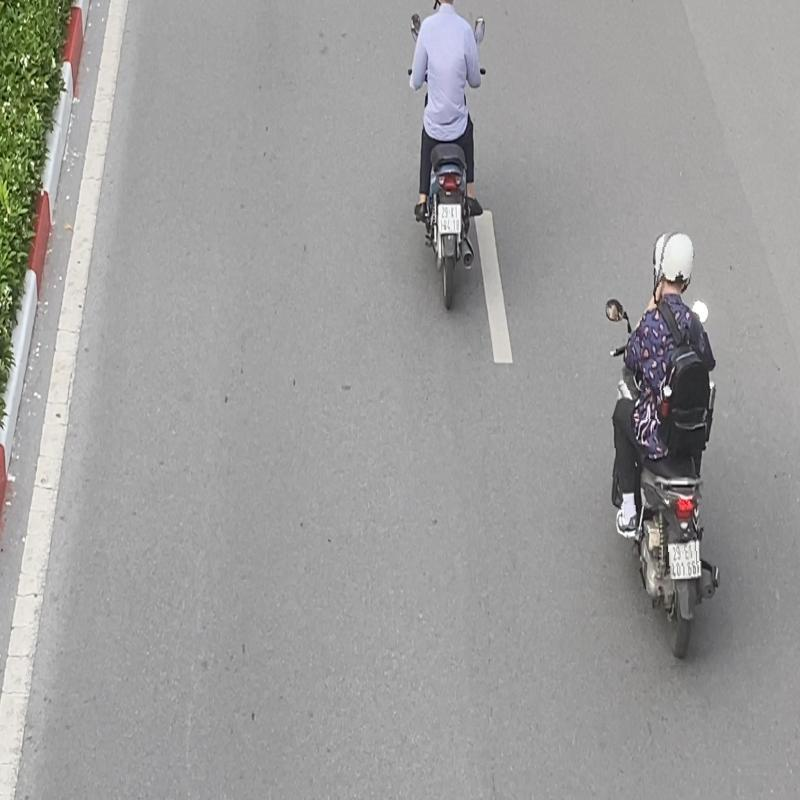helmet: (658, 231, 698, 294)
licenseplate: (668, 538, 698, 580)
motorcyclist: (604, 227, 730, 667)
